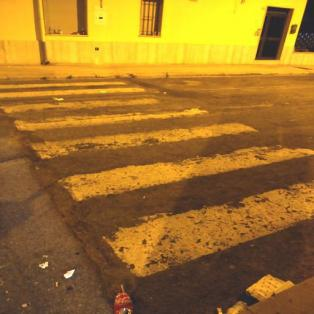Paso de Cebra: (20, 120, 314, 205)
